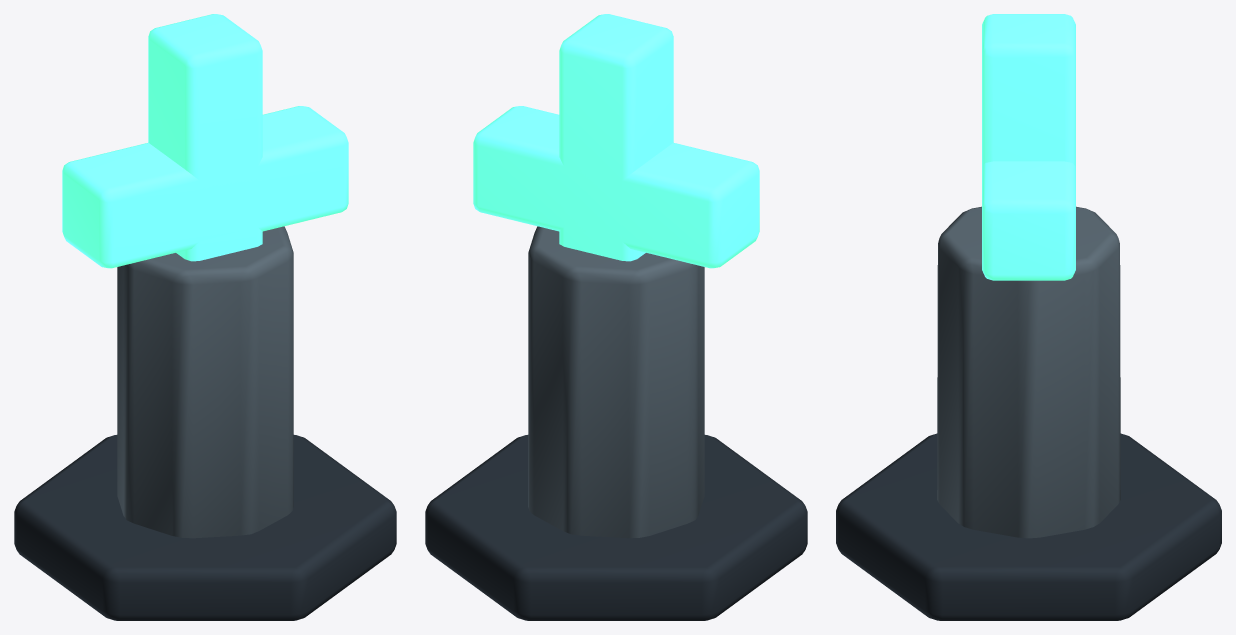
File: enemy_role_restorer.fbx
3 views of the same model, side by side, from view 1: azimuth 30°, elevation 25°; view 2: azimuth 150°, elevation 25°; view 3: azimuth 270°, elevation 25° (orthographic).
Parts seen in each view (by area): view 1: enemy_role_restorer_Geometry; view 2: enemy_role_restorer_Geometry; view 3: enemy_role_restorer_Geometry.
Boxes of the visible parts, box(x1,y1,x2,y2) form: enemy_role_restorer_Geometry: box(14, 14, 396, 620); enemy_role_restorer_Geometry: box(425, 14, 807, 620); enemy_role_restorer_Geometry: box(836, 14, 1221, 620).
Bounding box in the file's own units: 0.3984 × 0.68 × 0.4527.
